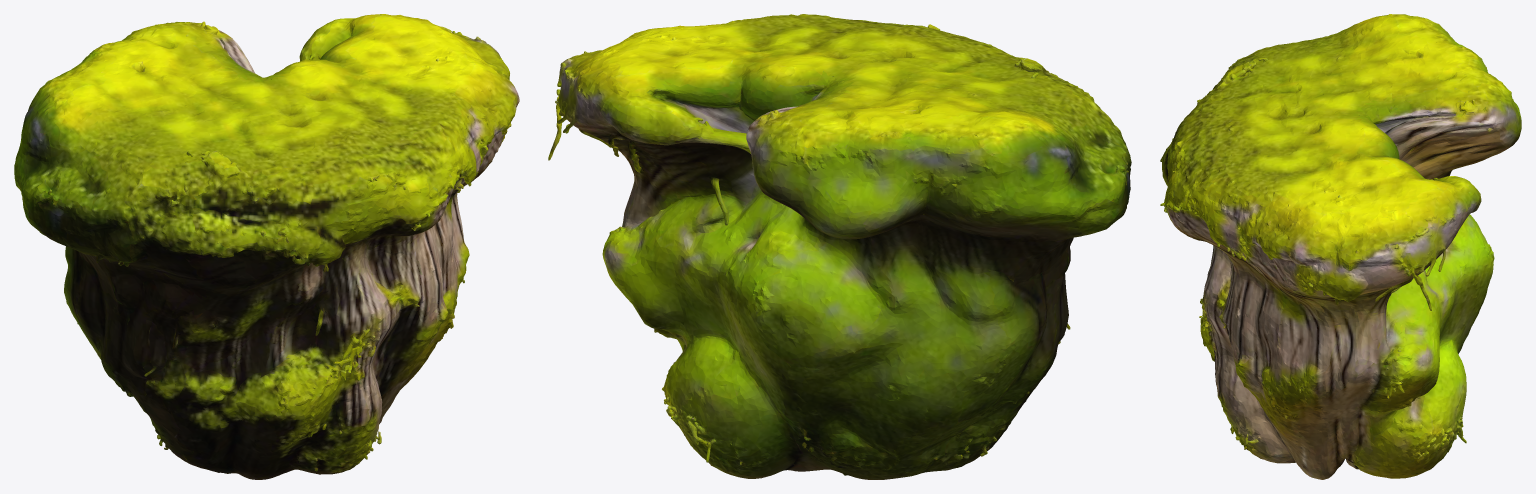
The model's file is swamp_moss_curtain_01.glb.
The picture shows the model from 3 angles, left to right: view 1: azimuth 30°, elevation 25°; view 2: azimuth 150°, elevation 25°; view 3: azimuth 270°, elevation 25°; orthographic projection. The views are drawn at different scales.
Parts seen in each view (by area): view 1: geometry_0; view 2: geometry_0; view 3: geometry_0.
Boxes of the visible parts, box(x1,y1,x2,y2) form: geometry_0: box(14, 14, 519, 479); geometry_0: box(548, 14, 1131, 479); geometry_0: box(1160, 14, 1521, 479).
Size of the model in its own units: 1 by 0.7478 by 0.6901.
1 material, 1 textured.
